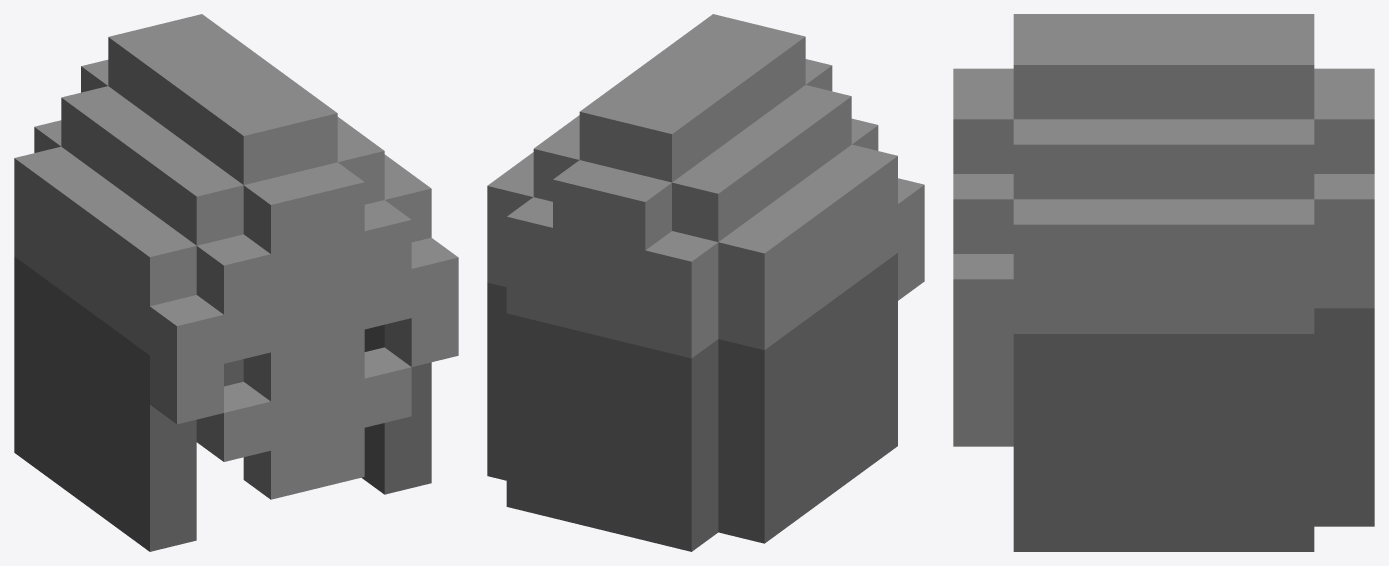
The model's file is characters_export_red-208-helm_med_2b_ja.obj.
3 renders of one model, left to right at view 1: azimuth 30°, elevation 25°; view 2: azimuth 150°, elevation 25°; view 3: azimuth 270°, elevation 25°, orthographic. The views are drawn at different scales.
Parts seen in each view (by area): view 1: helm_med_2b_ja; view 2: helm_med_2b_ja; view 3: helm_med_2b_ja.
Part boxes in pixels (box(x1,y1,x2,y2)): helm_med_2b_ja: box(14, 14, 458, 551); helm_med_2b_ja: box(487, 14, 924, 551); helm_med_2b_ja: box(953, 14, 1374, 551).
Bounding box in the file's own units: 0.6 × 0.8 × 0.7.
1 material, 1 textured.
